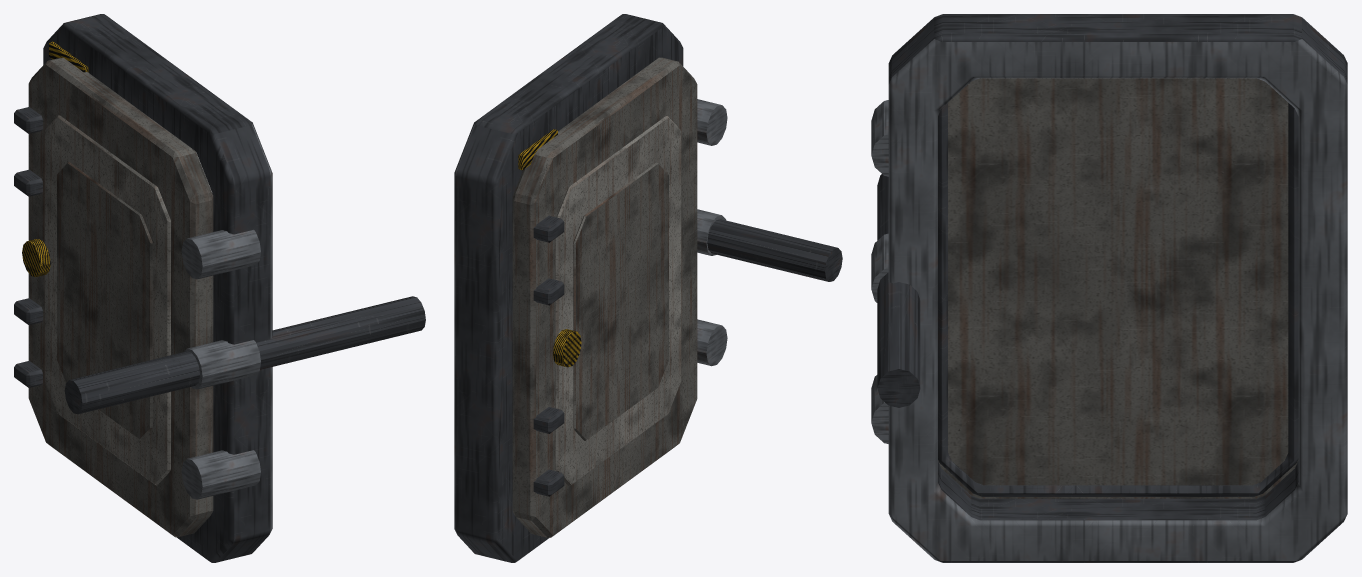
File: airlock_hatch_v3_wide.glb
3 renders of one model, left to right at view 1: azimuth 30°, elevation 25°; view 2: azimuth 150°, elevation 25°; view 3: azimuth 270°, elevation 25°, orthographic. The views are drawn at different scales.
Visible parts, largest first — view 1: AirlockFrame, HatchLeaf, HatchLeafInset, HatchLeafFace, HatchHingeBarrel, HatchHingeKnuckle3, HatchHingeKnuckle1, HatchHingeKnuckle2, HatchManualWheel, HatchLockDog_2.88, HatchLockDog_2.47, HatchLockDog_4.13 (+1 smaller); view 2: AirlockFrame, HatchLeaf, HatchLeafInset, HatchLeafFace, HatchHingeBarrel, HatchHingeKnuckle1, HatchHingeKnuckle3, HatchManualWheel, HatchHingeKnuckle2, HatchLockDog_4.13, HatchLockDog_2.47, HatchLockDog_3.72 (+2 smaller); view 3: HatchLeaf, AirlockFrame, AirlockPressureSeal, HatchHingeBarrel, HatchHingeKnuckle3, HatchHingeKnuckle2, HatchHingeKnuckle1.
Boxes of the visible parts, x1,y1,x2,y2 form: AirlockFrame: (43, 14, 272, 562); HatchLeaf: (28, 57, 213, 537); HatchLeafInset: (57, 162, 152, 440); HatchLeafFace: (44, 115, 170, 485); HatchHingeBarrel: (64, 296, 425, 414); HatchHingeKnuckle3: (181, 229, 260, 279); HatchHingeKnuckle1: (181, 450, 260, 499); HatchHingeKnuckle2: (184, 340, 260, 389); HatchManualWheel: (22, 239, 50, 276); HatchLockDog_2.88: (14, 298, 42, 325); HatchLockDog_2.47: (14, 361, 42, 387); HatchLockDog_4.13: (14, 107, 42, 133); AirlockFrame: (454, 14, 683, 562); HatchLeaf: (512, 57, 697, 537); HatchLeafInset: (573, 162, 668, 440); HatchLeafFace: (555, 116, 681, 485); HatchHingeBarrel: (707, 219, 842, 281); HatchHingeKnuckle1: (697, 319, 727, 366); HatchHingeKnuckle3: (697, 99, 727, 145); HatchManualWheel: (552, 329, 581, 367); HatchHingeKnuckle2: (697, 209, 726, 255); HatchLockDog_4.13: (533, 215, 564, 242); HatchLockDog_2.47: (533, 469, 564, 496); HatchLockDog_3.72: (533, 278, 564, 305); HatchLeaf: (938, 78, 1298, 498); AirlockFrame: (888, 14, 1347, 562); AirlockPressureSeal: (938, 103, 1298, 496); HatchHingeBarrel: (877, 174, 920, 407); HatchHingeKnuckle3: (871, 100, 888, 176); HatchHingeKnuckle2: (871, 233, 888, 302); HatchHingeKnuckle1: (871, 375, 888, 443).
Bounding box in the file's own units: 2.35 × 2.84 × 2.32.
6 materials, 5 textured.
